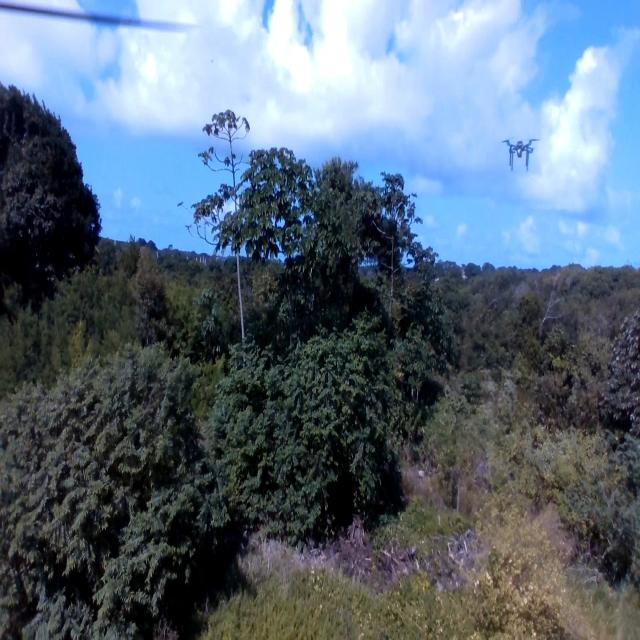-uav-: (498, 127, 542, 175)
